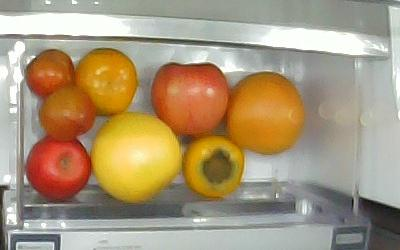apple: (151, 63, 230, 135), (26, 138, 91, 201)
grapefruit: (92, 112, 180, 203), (225, 71, 305, 155)
persimmon: (76, 48, 139, 115), (183, 136, 245, 197)
tomato: (39, 87, 95, 138), (24, 50, 75, 96)
